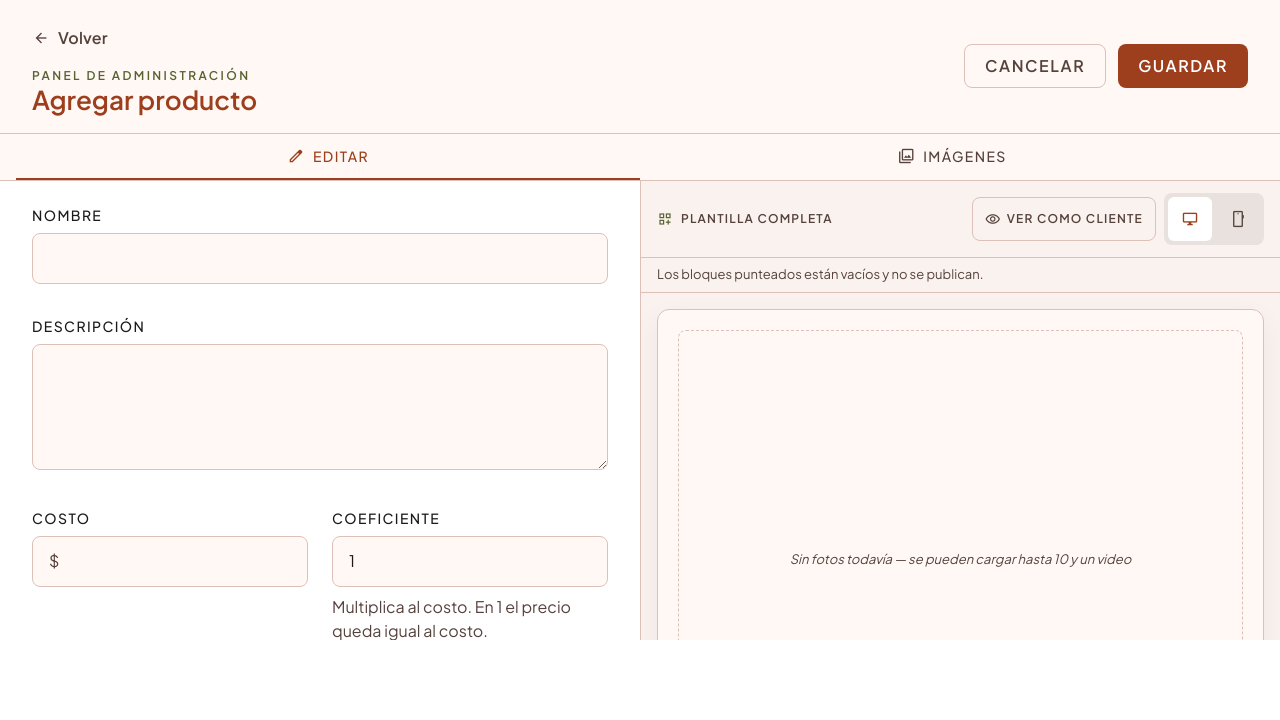
Scenario: AdminProductoForm — vista previa en vivo › refleja el nombre tipeado en la vista previa sin guardar
Type "Lámpara Nómade" into the field labelled "Nombre".
click(320, 259); type("Lámpara Nómade")  # box [32,233,608,284]
(page scrolled)
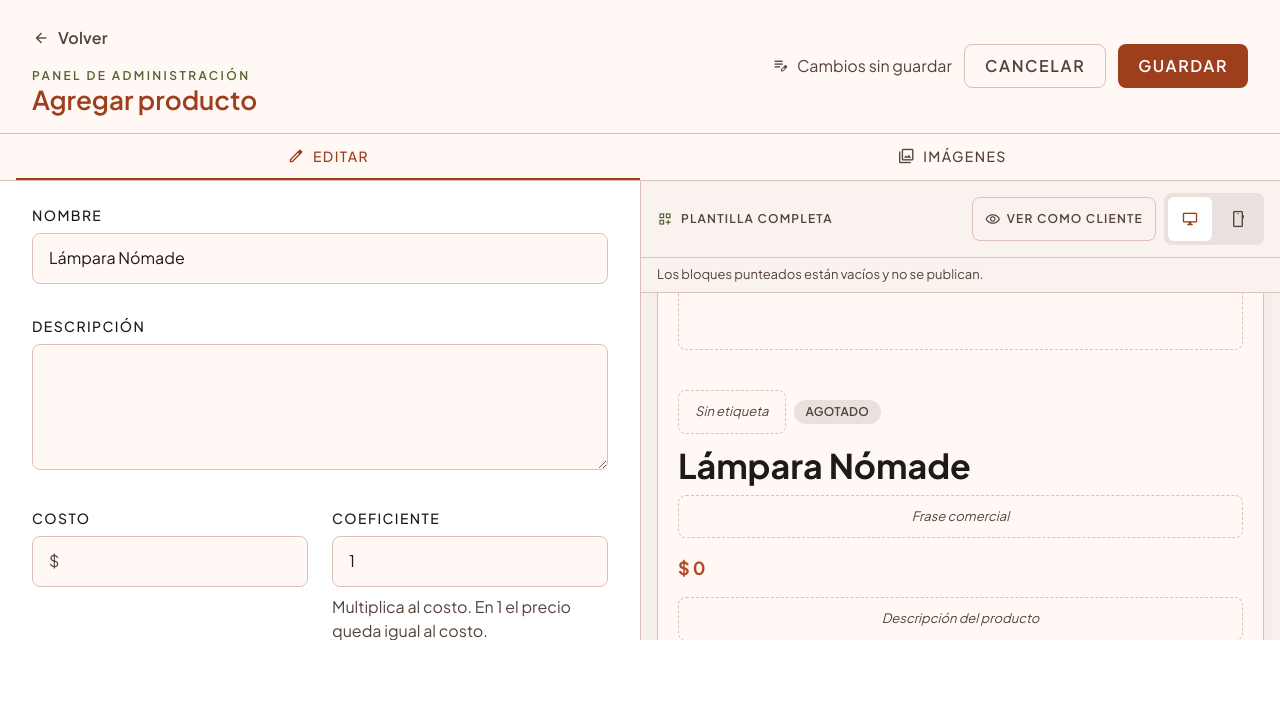
Expected: the heading "Lámpara Nómade" is shown, [678,444,971,487]
